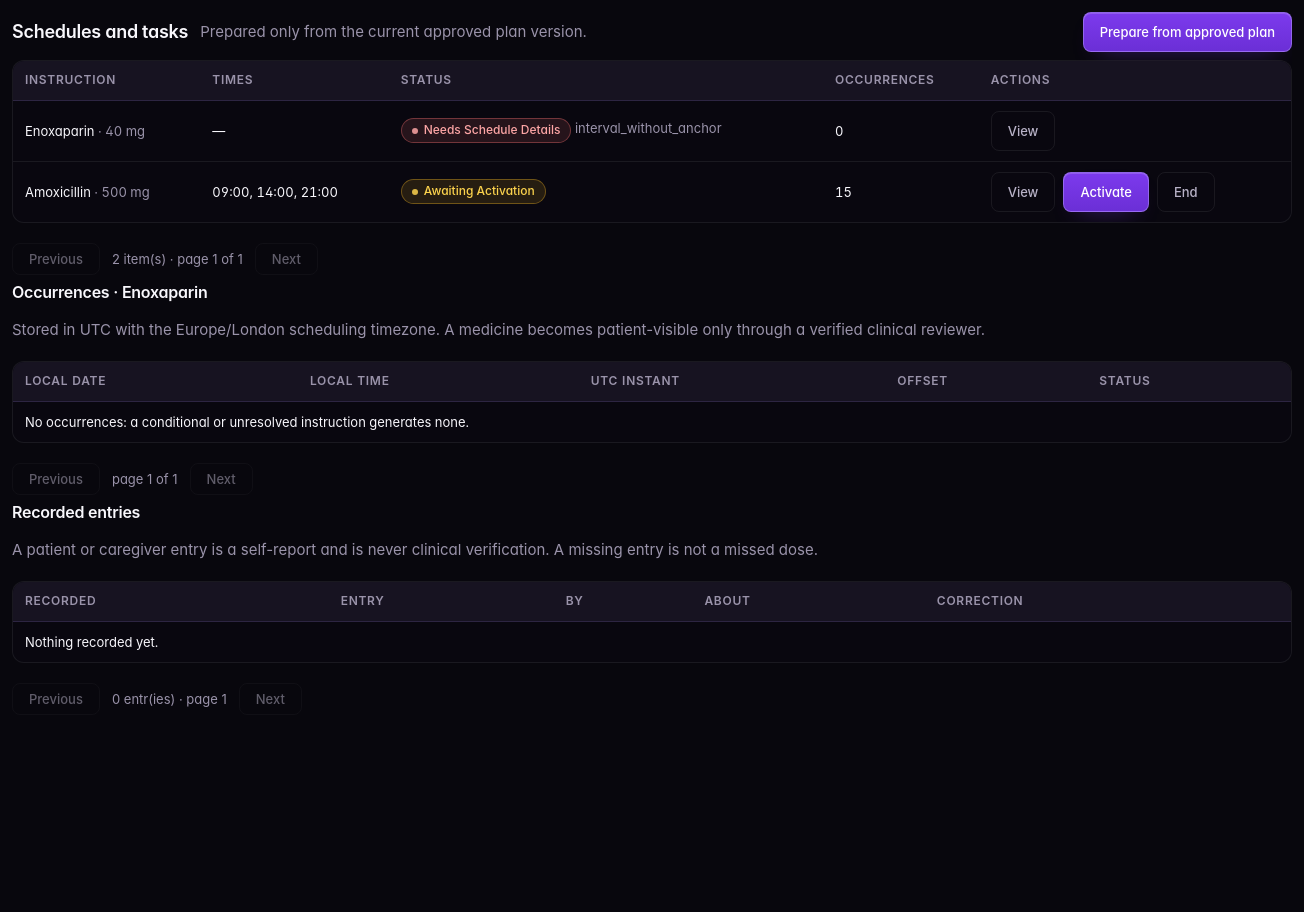
Test case: SchedulePanel › prepares only from an approved plan and states the activation rule
Expected: the text "Awaiting activation" is shown, [401,179,546,204]
Expected: the text "Needs schedule details" is shown, [401,118,572,143]
Click the button "Prepare from approved plan" at (1187, 32), box [1083,12,1292,52]
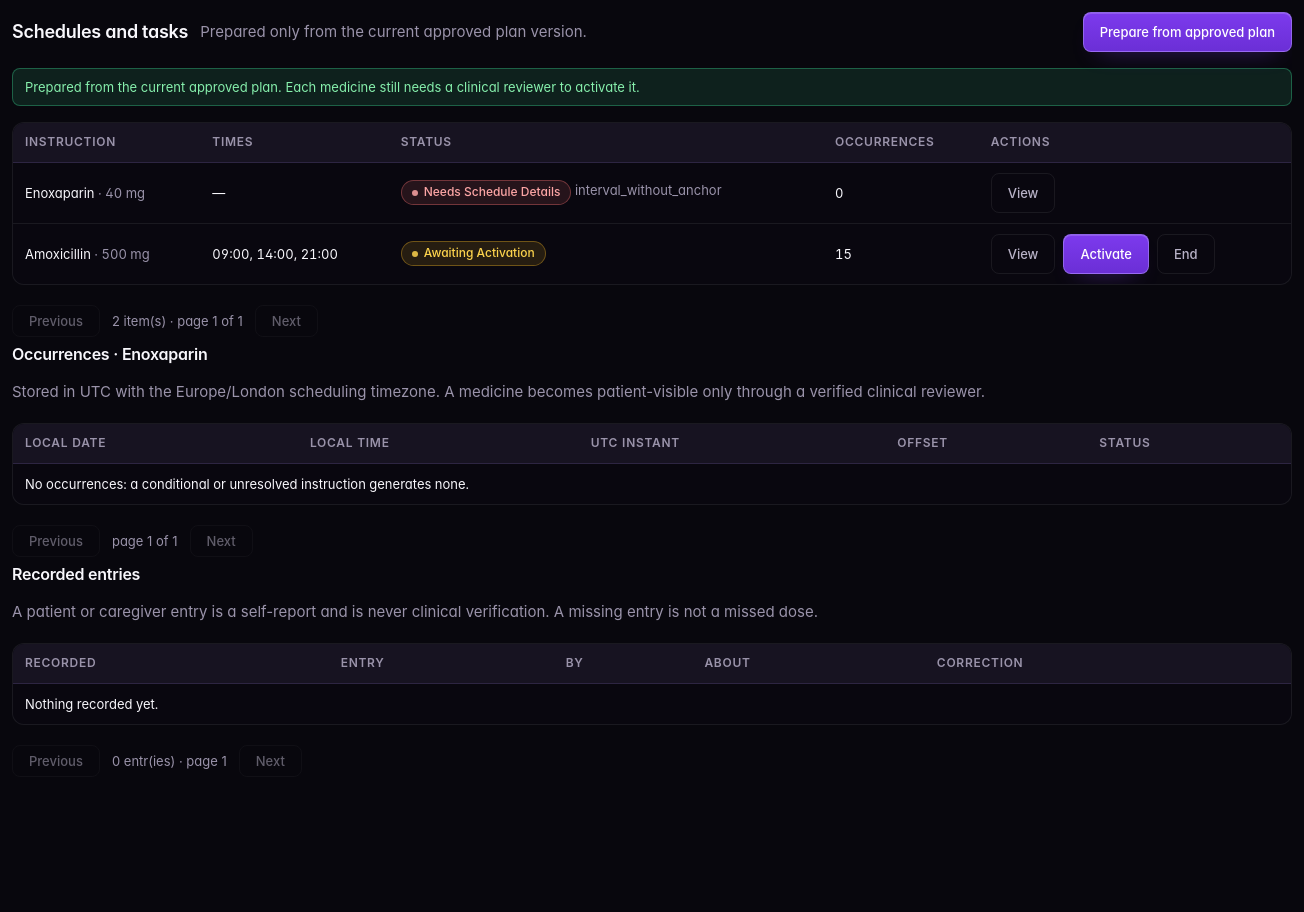
Expected: the text "needs a clinical reviewer to activate it" is shown, [25,79,640,95]
